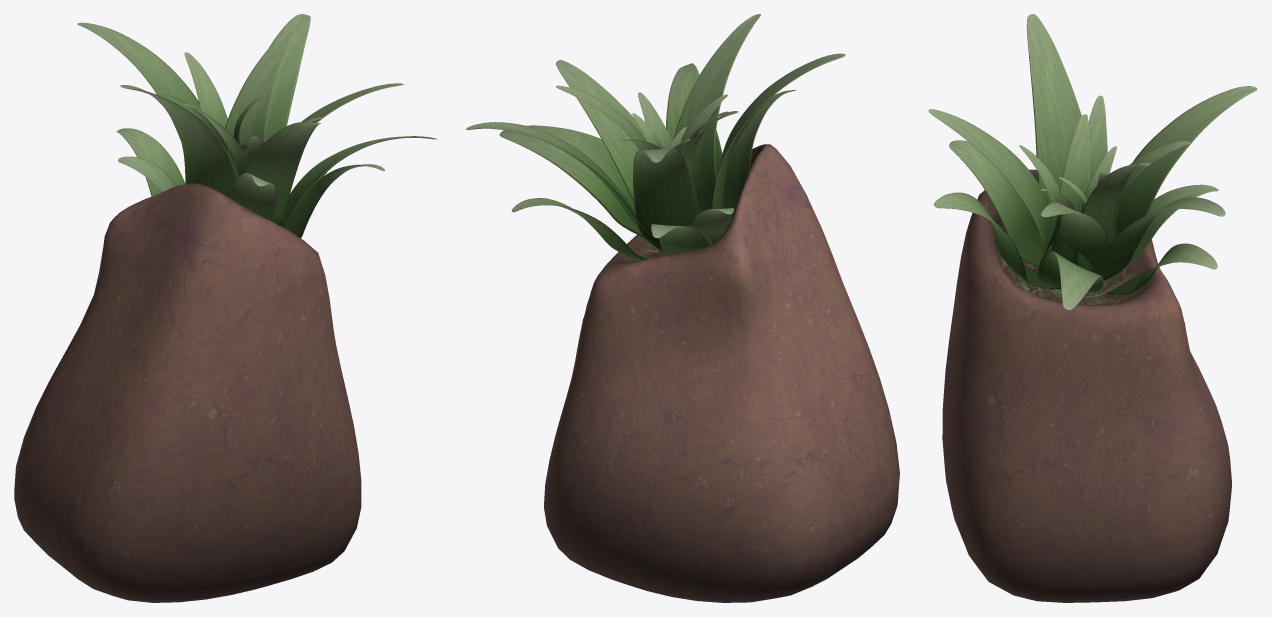
File: plant_interior_decoration.glb
The picture shows the model from 3 angles, left to right: view 1: azimuth 30°, elevation 25°; view 2: azimuth 150°, elevation 25°; view 3: azimuth 270°, elevation 25°; orthographic projection. The views are drawn at different scales.
Parts seen in each view (by area): view 1: polySurface23; view 2: polySurface23; view 3: polySurface23.
Part boxes in pixels (x1=…): polySurface23: x1=14, y1=14, x2=437, y2=602; polySurface23: x1=466, y1=14, x2=899, y2=602; polySurface23: x1=928, y1=14, x2=1257, y2=602.
Bounding box in the file's own units: 0.2865 × 0.3781 × 0.2246.
Materials: 2 (2 with a texture image).
